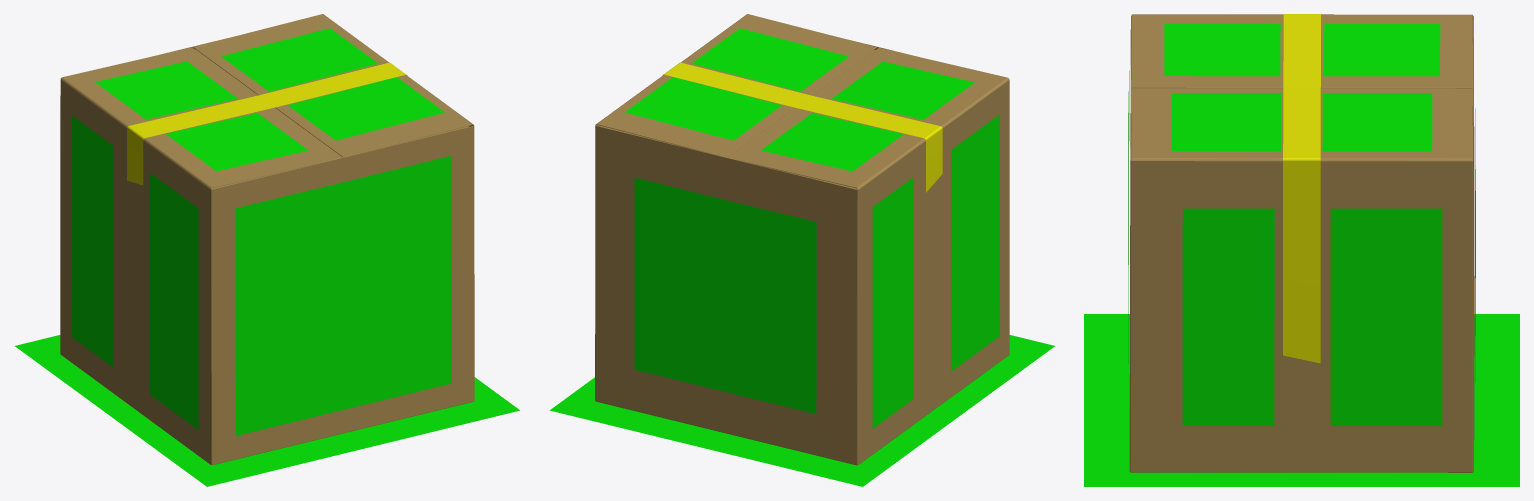
File: box_med.fbx
3 views of the same model, side by side, from view 1: azimuth 30°, elevation 25°; view 2: azimuth 150°, elevation 25°; view 3: azimuth 270°, elevation 25° (orthographic). The views are drawn at different scales.
Visible parts, largest first — view 1: box_med_decal, box_med_box, box_med_shdw_decal, box_med_tape; view 2: box_med_box, box_med_decal, box_med_shdw_decal, box_med_tape; view 3: box_med_box, box_med_decal, box_med_shdw_decal, box_med_tape.
Boxes of the visible parts, <box> form: box_med_decal: <box>72,28,451,435</box>; box_med_box: <box>60,14,474,465</box>; box_med_shdw_decal: <box>15,335,519,486</box>; box_med_tape: <box>127,62,407,185</box>; box_med_box: <box>595,14,1009,465</box>; box_med_decal: <box>625,28,999,428</box>; box_med_shdw_decal: <box>550,335,1054,486</box>; box_med_tape: <box>662,62,942,192</box>; box_med_box: <box>1129,14,1474,472</box>; box_med_decal: <box>1128,23,1475,425</box>; box_med_shdw_decal: <box>1084,314,1519,486</box>; box_med_tape: <box>1283,14,1320,363</box>.
Bounding box in the file's own units: 15.9 × 13.51 × 16.93.
